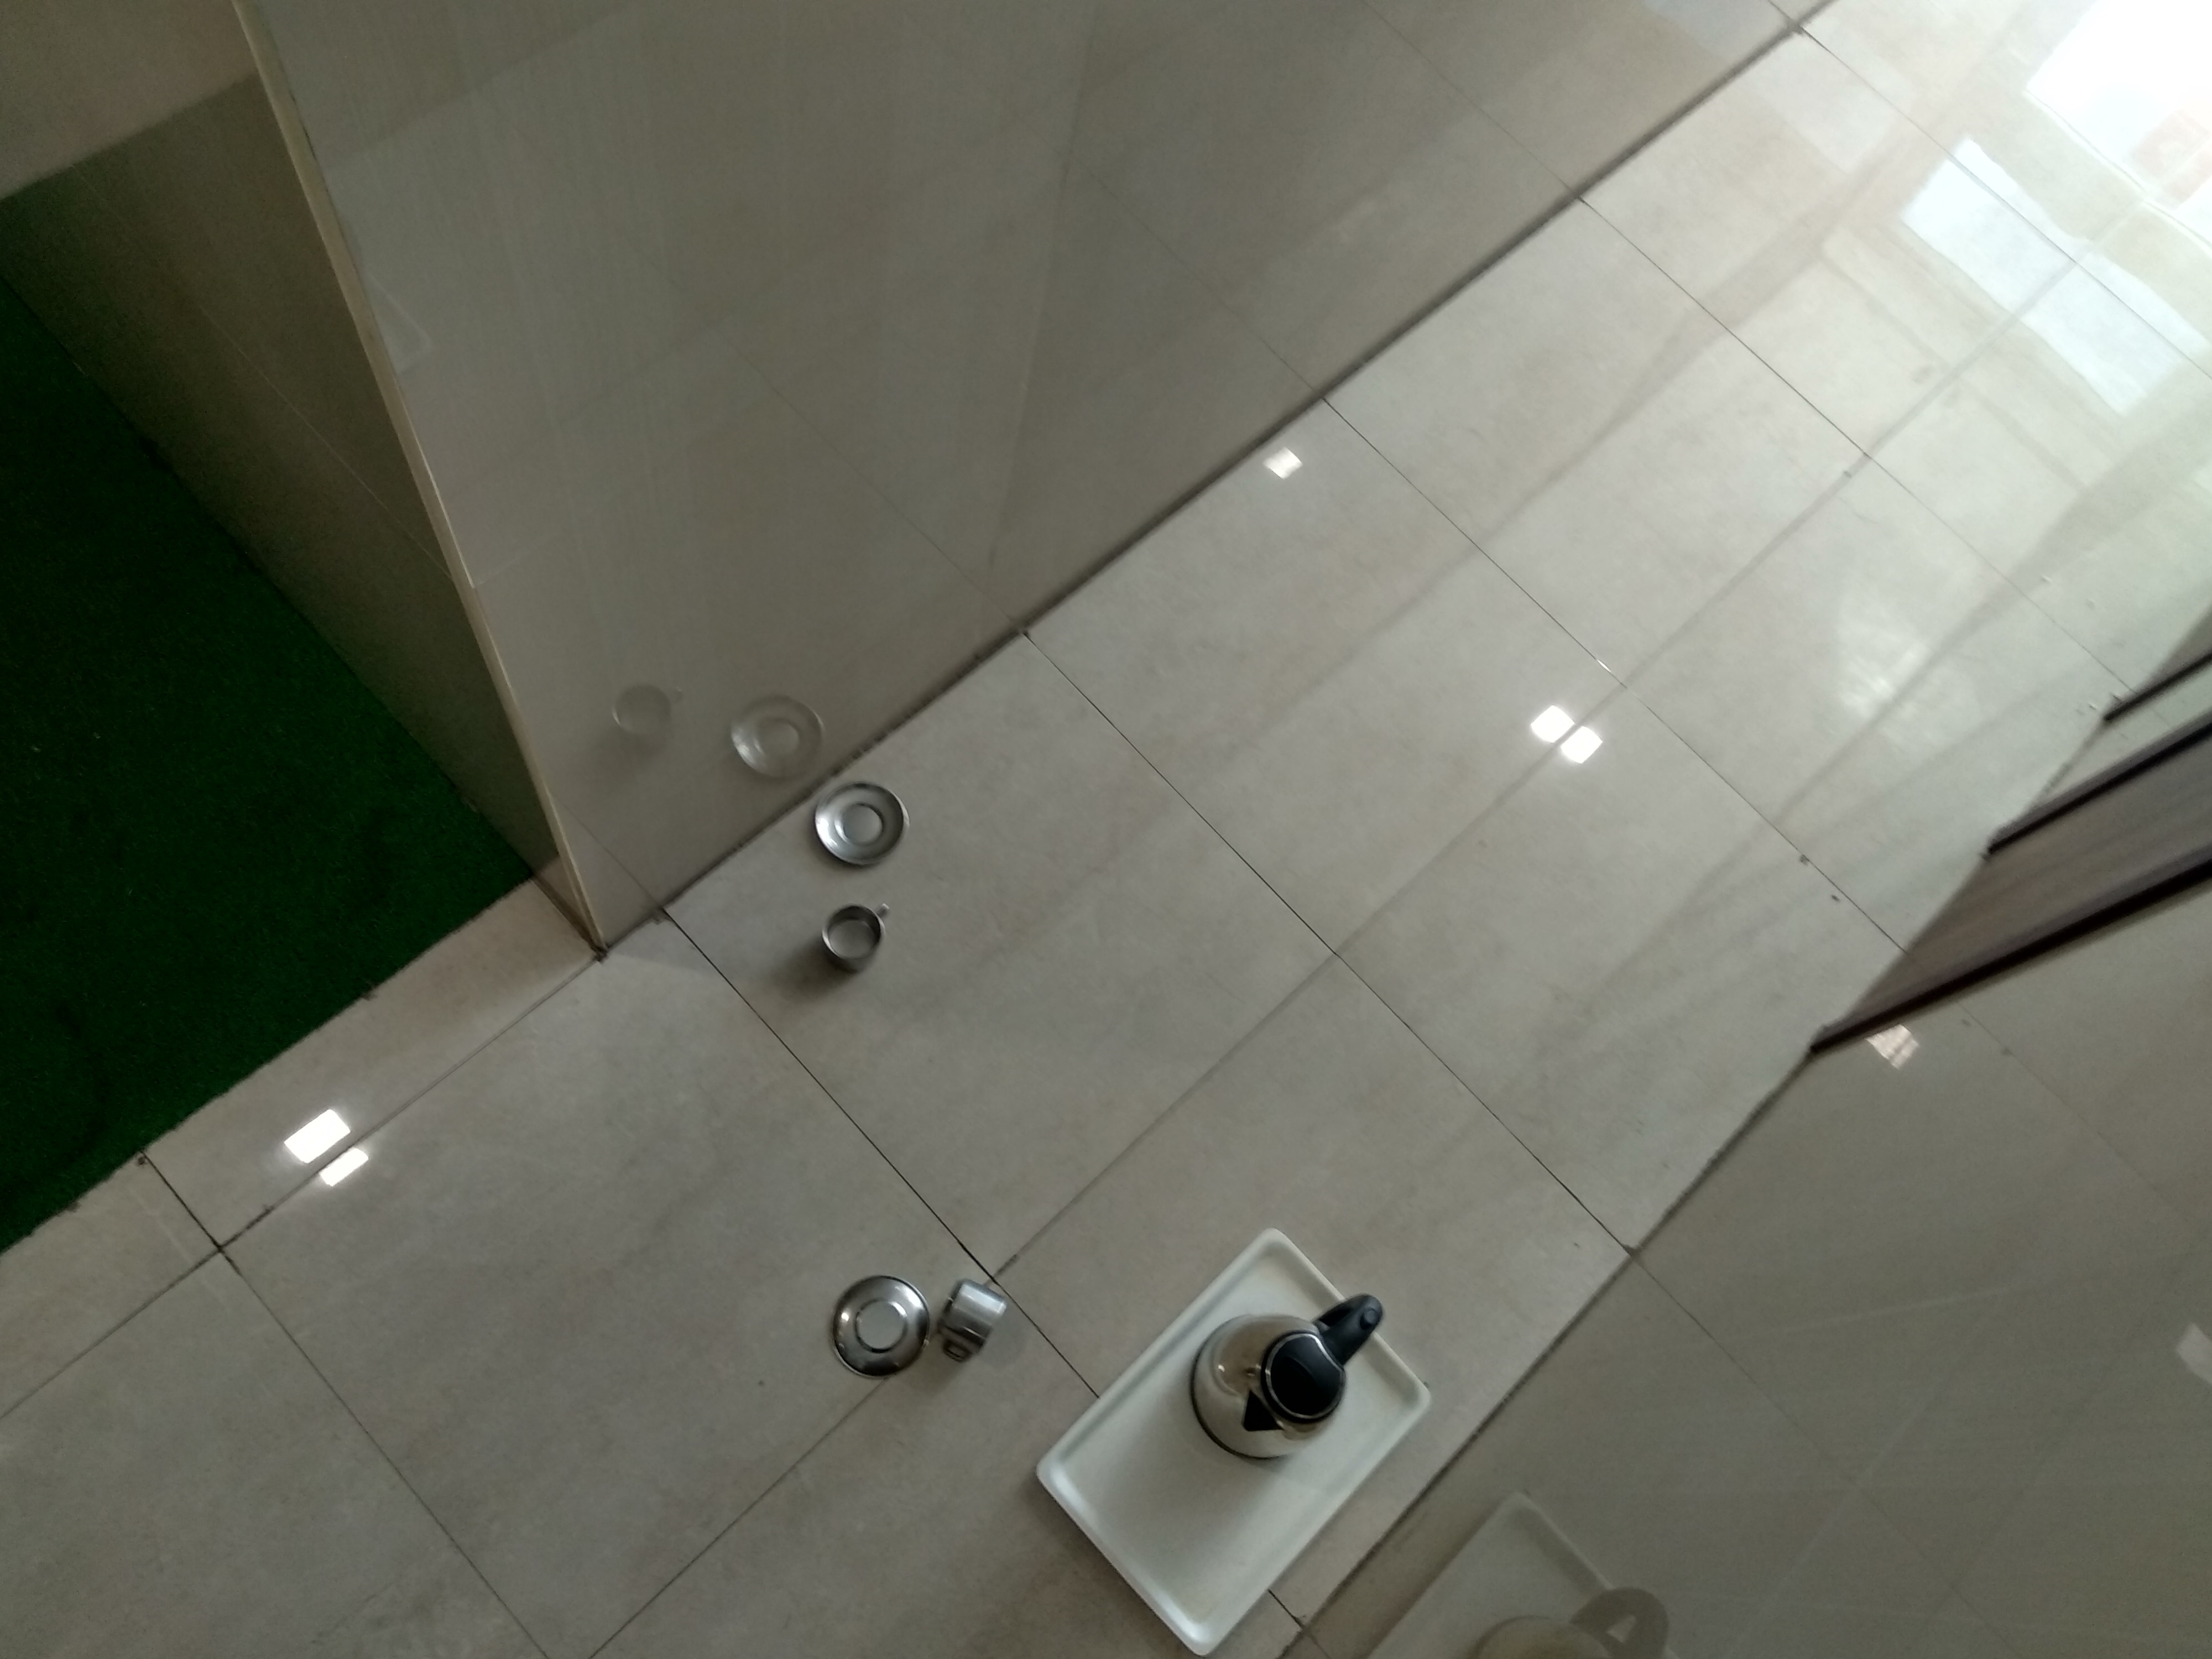CUP: (935, 1284, 1014, 1368), (817, 897, 890, 967)
JUG: (1205, 1290, 1392, 1481)
